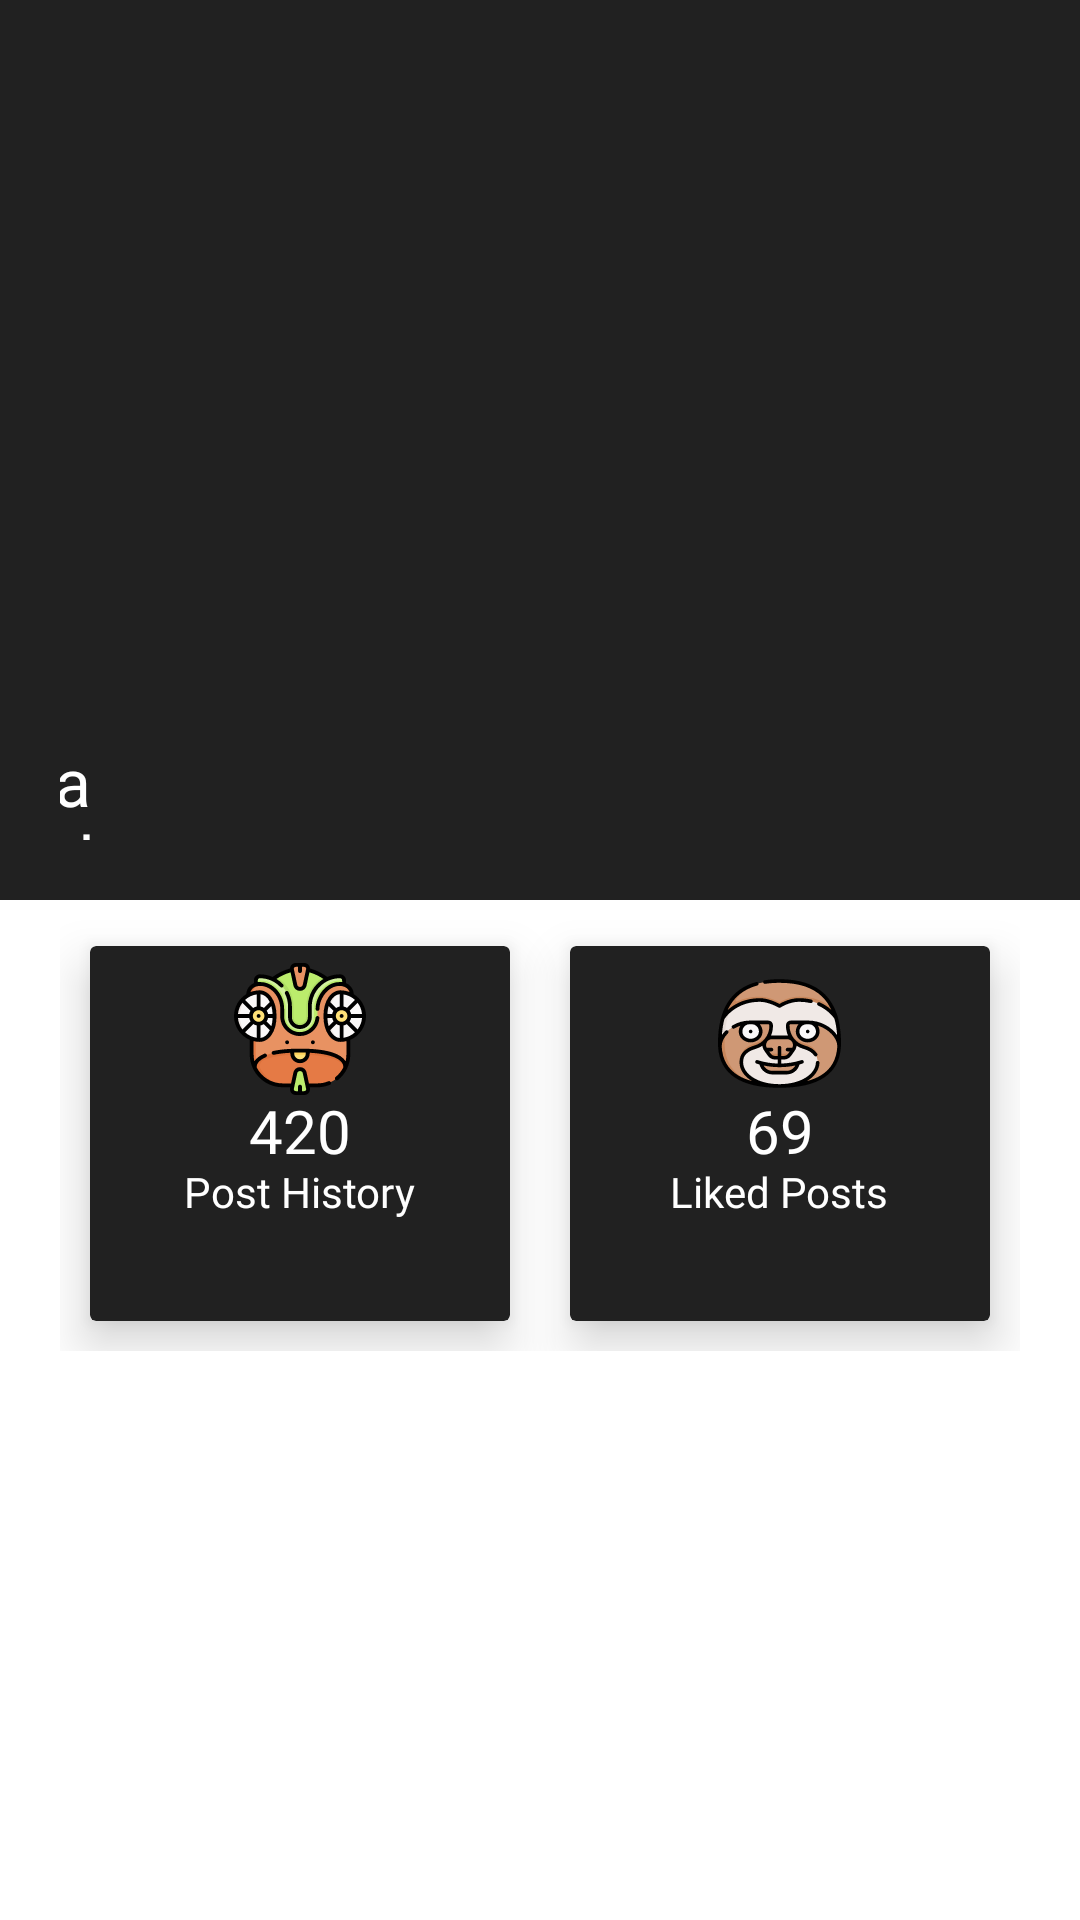

Locate icon controls on the screen. Image size 1080px×1920px, boxes as bbox(x1, y1, x2, y2).
chameleon: bbox(234, 963, 366, 1095)
sloth: bbox(718, 979, 841, 1088)
